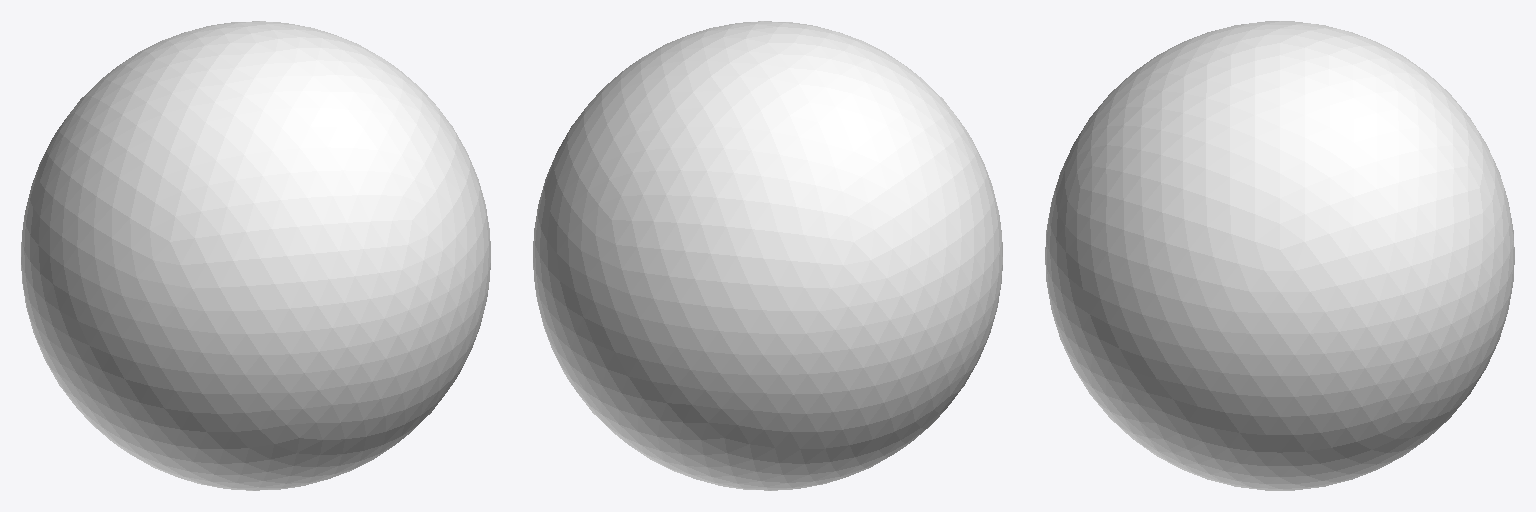
Rendered from rSphere.obj.
3 renders of one model, left to right at view 1: azimuth 30°, elevation 25°; view 2: azimuth 150°, elevation 25°; view 3: azimuth 270°, elevation 25°, orthographic.
Visible parts, largest first — view 1: object_1; view 2: object_1; view 3: object_1.
Boxes of the visible parts, x1,y1,x2,y2 form: object_1: [21, 21, 490, 490]; object_1: [533, 21, 1002, 490]; object_1: [1045, 21, 1514, 490].
Bounding box in the file's own units: 0.2 × 0.2 × 0.2.